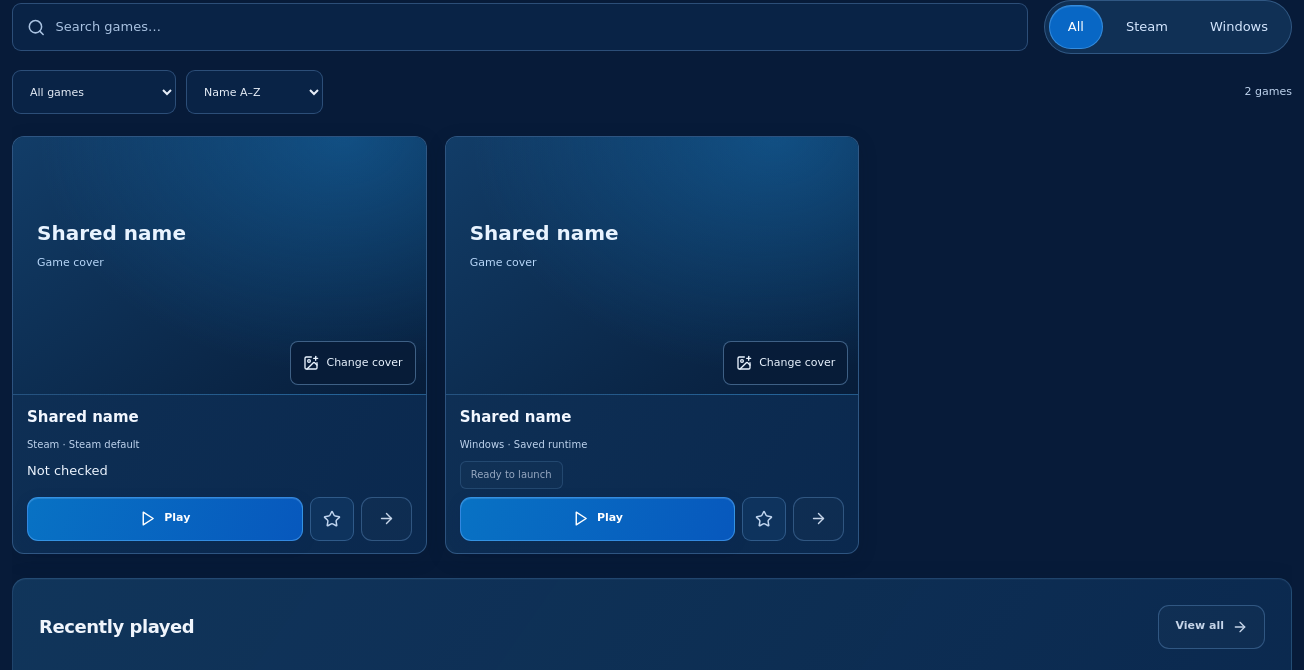
Test: reports storage failure without pretending the favorite was saved
Step 1. Click the button named "Add Shared name (Steam) to favorites" → (332, 519), box [310,497,354,541]
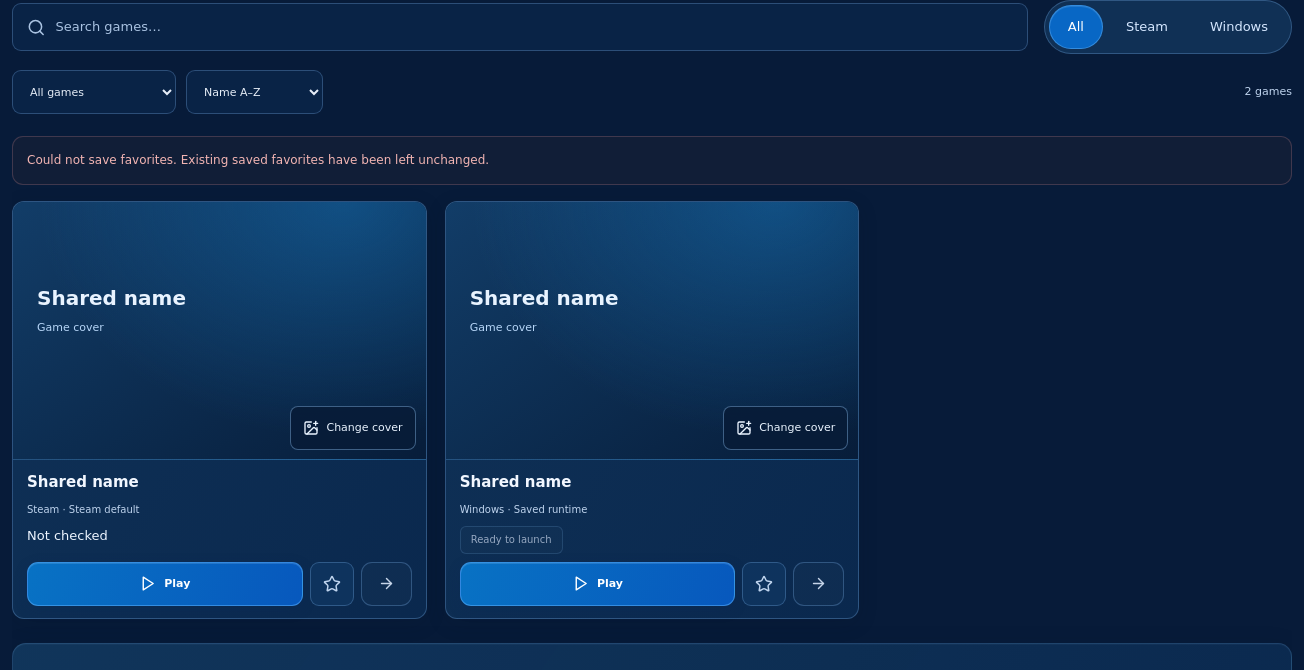
Expected: the message shows "Could not save", [27,153,489,167]
